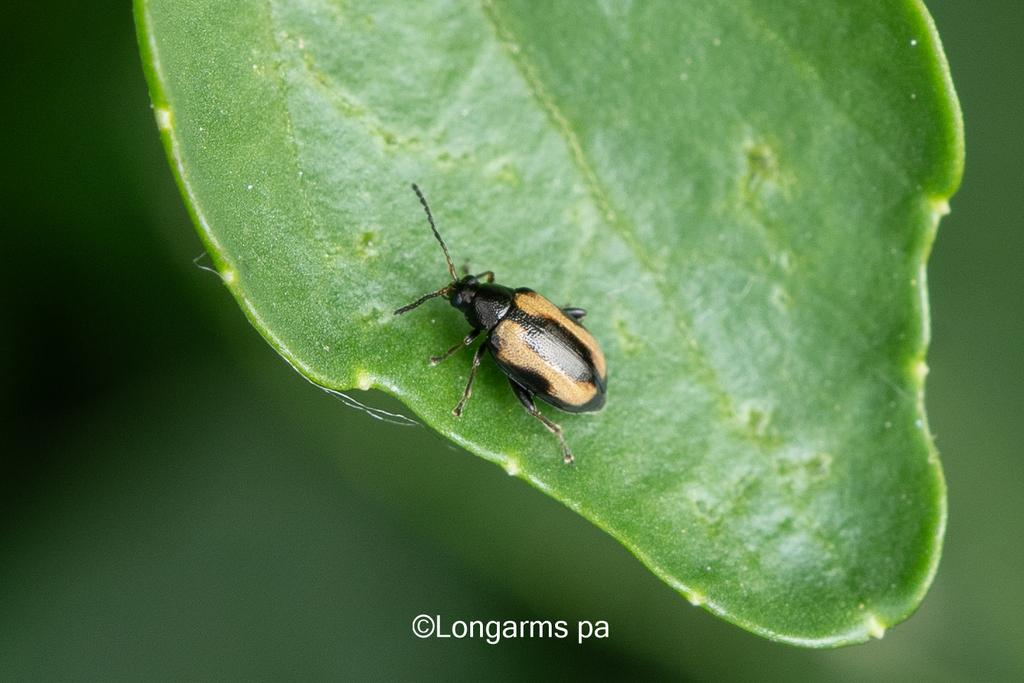flea_beetle: (337, 166, 668, 485)
